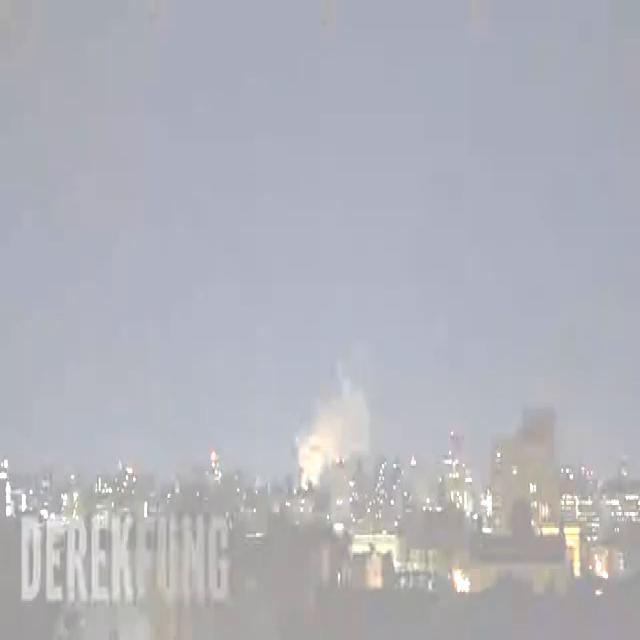smoke: (295, 364, 371, 489)
